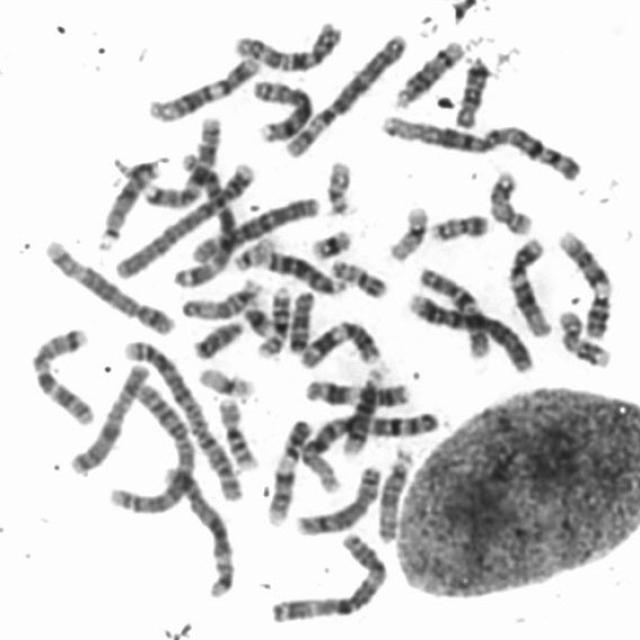A1: (375, 107, 586, 183), (296, 406, 441, 495)
A2: (116, 332, 250, 506), (104, 372, 200, 516)
A3: (265, 526, 392, 624), (173, 149, 240, 290)
B4: (111, 155, 256, 280), (403, 284, 536, 374)
B5: (37, 232, 177, 335), (156, 459, 238, 599)
C10: (412, 260, 493, 360), (228, 15, 347, 74)
C11: (296, 314, 385, 370), (302, 374, 416, 408)
C12: (142, 50, 263, 124), (504, 230, 554, 338)
C6: (280, 27, 410, 161), (186, 192, 323, 264)
C7: (138, 110, 225, 209), (25, 321, 98, 426)
C8: (289, 458, 384, 538), (247, 73, 316, 144)
C9: (551, 224, 616, 341), (263, 414, 314, 526)
D13: (92, 152, 164, 252), (258, 244, 349, 296)
D14: (390, 35, 468, 109), (336, 361, 389, 457)
D15: (372, 444, 417, 544), (177, 273, 265, 322)
E16: (212, 391, 261, 472), (254, 280, 295, 359)
E17: (553, 304, 614, 369), (484, 166, 536, 237)
E18: (449, 52, 491, 129), (285, 285, 317, 354)
F19: (384, 199, 431, 263), (193, 361, 257, 399)
F20: (325, 252, 391, 299), (426, 206, 492, 243)
G21: (306, 223, 354, 261), (238, 300, 277, 338)
G22: (320, 153, 358, 218), (229, 232, 278, 272)
X: (64, 359, 150, 477)
Y: (188, 314, 248, 361)
